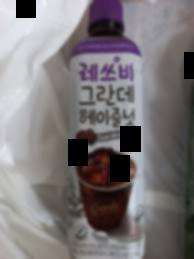letsbe_grande_hazelnut: (67, 0, 148, 258)
